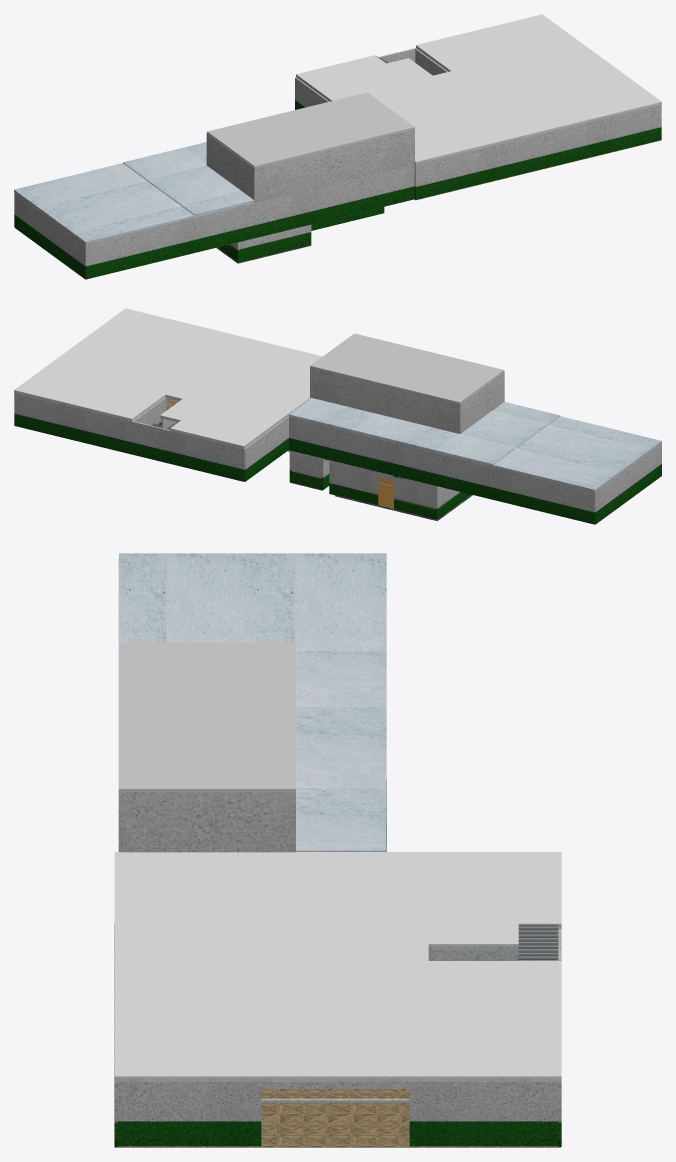
Rendered from Escola.fbx.
3 views of the same model, one above another, from view 1: azimuth 30°, elevation 25°; view 2: azimuth 150°, elevation 25°; view 3: azimuth 270°, elevation 25° (orthographic). The views are drawn at different scales.
Visible parts, largest first — view 1: Piso-Andar3.001, Parede.027, Parede.035, Teto.001, Teto-Teatro, Parede.019, Piso-Andar3, Parede.017, Parede.025, Parede.009, Teto-Andar3, Parede.026 (+2 smaller); view 2: Piso-Andar3.001, Parede.018, Parede.034, Teto.001, Piso-Andar3, Teto-Teatro, Parede.023, Parede.002, Parede.017, Parede.026, Parede.025, Parede.012 (+5 smaller); view 3: Piso-Andar3.001, Teto-Teatro, Teto.001, Parede.036, Piso-Andar3, Parede.024, Piso-Andar2.001, Teto-Andar3, Escada.003, Parede.021.
Boxes of the visible parts, left/top/right/bottom form: Piso-Andar3.001: left=296, top=14, right=661, bottom=162; Parede.027: left=87, top=164, right=414, bottom=278; Parede.035: left=414, top=105, right=661, bottom=199; Teto.001: left=14, top=163, right=253, bottom=243; Teto-Teatro: left=207, top=92, right=414, bottom=168; Parede.019: left=253, top=129, right=414, bottom=202; Piso-Andar3: left=123, top=142, right=254, bottom=215; Parede.017: left=14, top=192, right=86, bottom=279; Parede.025: left=207, top=133, right=253, bottom=198; Parede.009: left=239, top=225, right=309, bottom=261; Teto-Andar3: left=296, top=46, right=661, bottom=164; Parede.026: left=295, top=77, right=328, bottom=109; Piso-Andar3.001: left=14, top=308, right=322, bottom=446; Parede.018: left=288, top=416, right=595, bottom=524; Parede.034: left=14, top=393, right=244, bottom=481; Teto.001: left=289, top=415, right=661, bottom=491; Piso-Andar3: left=289, top=398, right=559, bottom=464; Teto-Teatro: left=310, top=333, right=504, bottom=403; Parede.023: left=310, top=367, right=460, bottom=433; Parede.002: left=329, top=460, right=437, bottom=519; Parede.017: left=595, top=443, right=661, bottom=524; Parede.026: left=244, top=416, right=288, bottom=481; Parede.025: left=460, top=372, right=503, bottom=433; Parede.012: left=291, top=452, right=321, bottom=489; Piso-Andar3.001: left=114, top=852, right=561, bottom=1077; Teto-Teatro: left=118, top=642, right=295, bottom=793; Teto.001: left=119, top=553, right=386, bottom=851; Parede.036: left=118, top=1082, right=558, bottom=1146; Piso-Andar3: left=296, top=651, right=386, bottom=851; Parede.024: left=121, top=792, right=295, bottom=852; Piso-Andar2.001: left=114, top=923, right=560, bottom=1147; Teto-Andar3: left=114, top=925, right=561, bottom=1081; Escada.003: left=518, top=924, right=558, bottom=960; Parede.021: left=429, top=949, right=518, bottom=960.
Bounding box in the file's own units: 6574 × 1195 × 2371.
